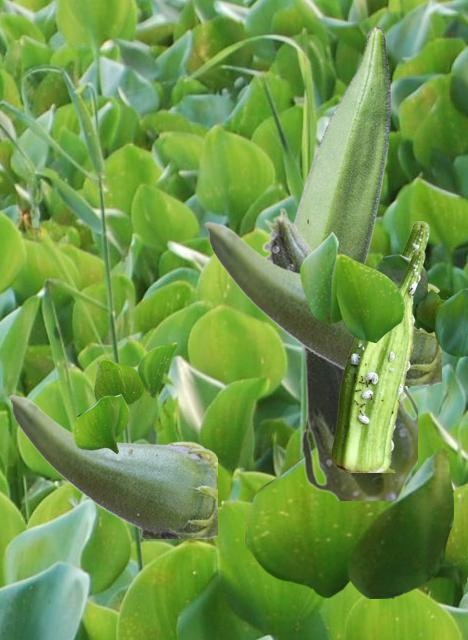okra: (261, 207, 416, 499), (204, 221, 440, 384), (301, 221, 429, 457), (8, 394, 216, 537), (293, 26, 390, 263), (331, 249, 424, 471)
